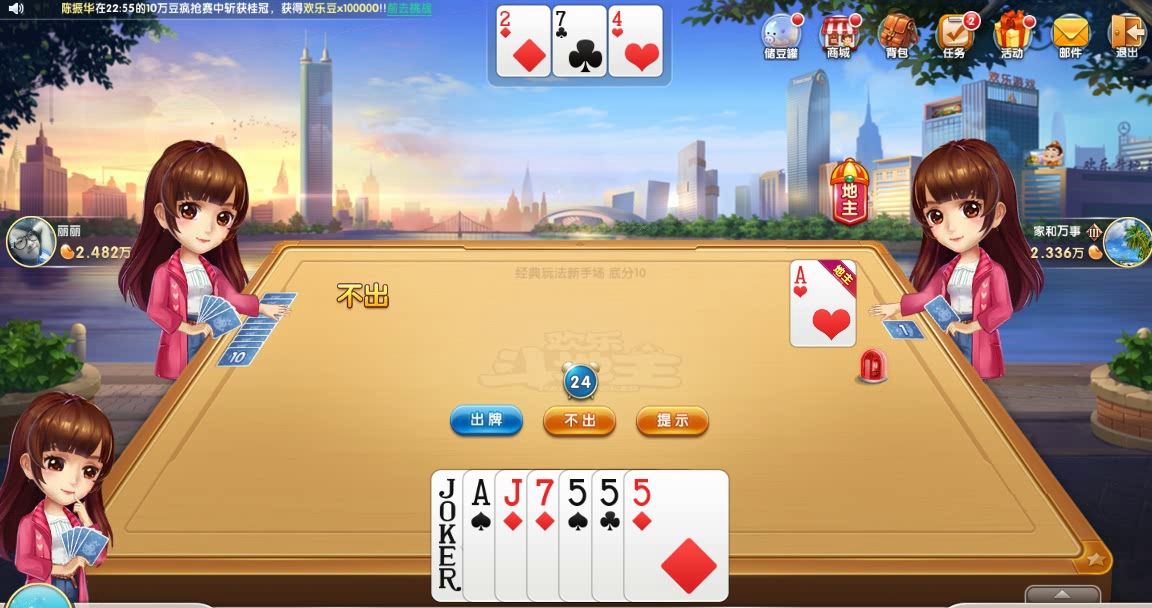11~1: (495, 469, 602, 602)
14~3: (791, 258, 856, 346)
14~4: (462, 469, 569, 602)
15~1: (497, 4, 552, 78)
17~3: (431, 469, 538, 602)
4~3: (609, 4, 664, 78)
5~1: (623, 469, 730, 602)
5~2: (592, 469, 699, 602)
5~4: (559, 469, 666, 602)
7~1: (527, 469, 634, 602)
7~2: (553, 4, 608, 78)
